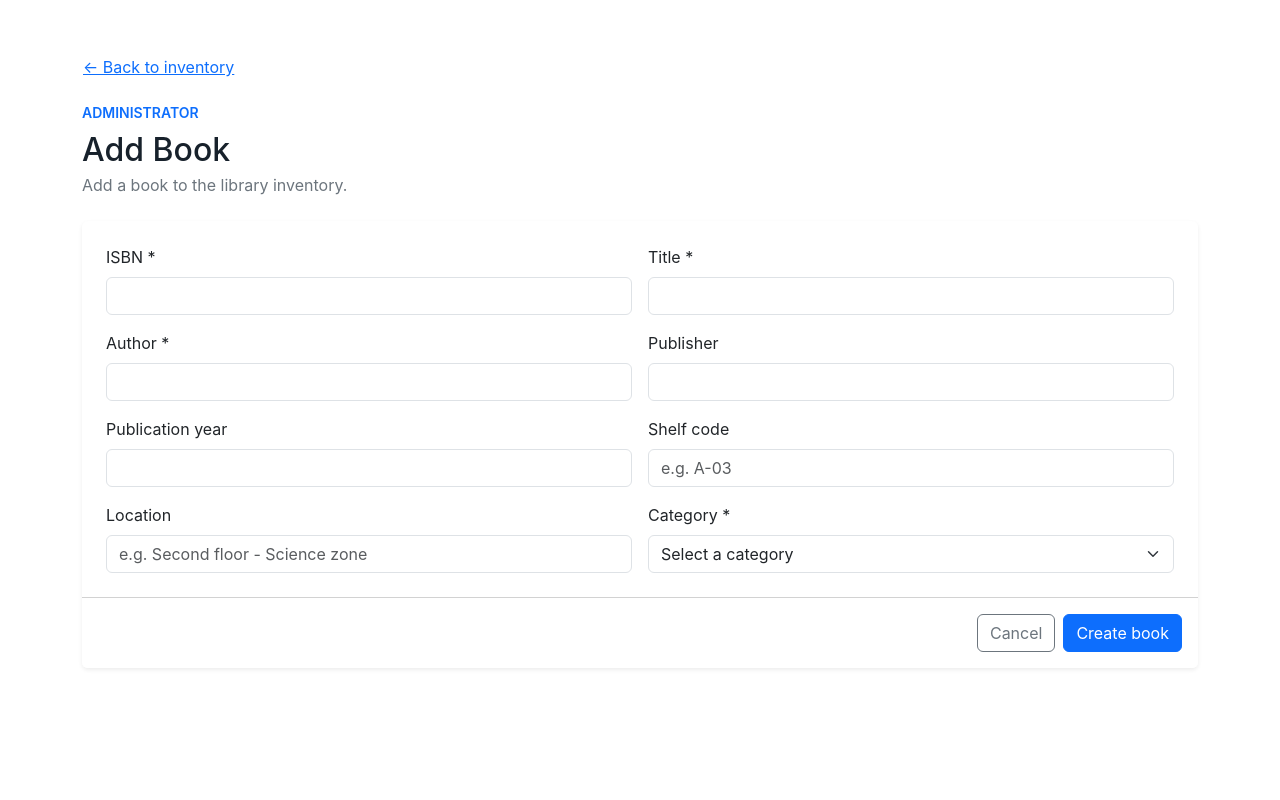
Test: BookFormComponent › rejects required fields before making an API request
The width and height of the screenshot is (1280, 800).
Click the submit button.
click(1123, 633)  # box [1063,614,1182,652]
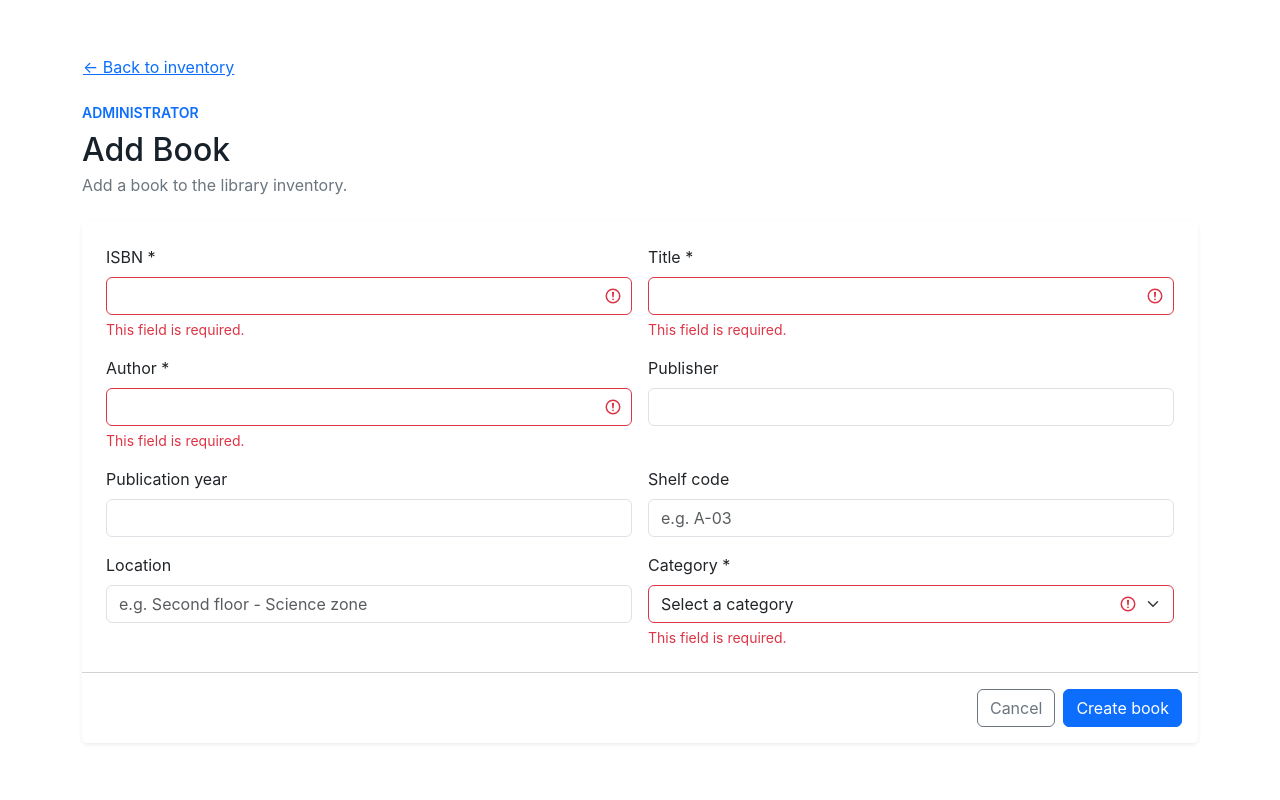
Expected: the text "This field is required." is shown, [106,321,245,338]
